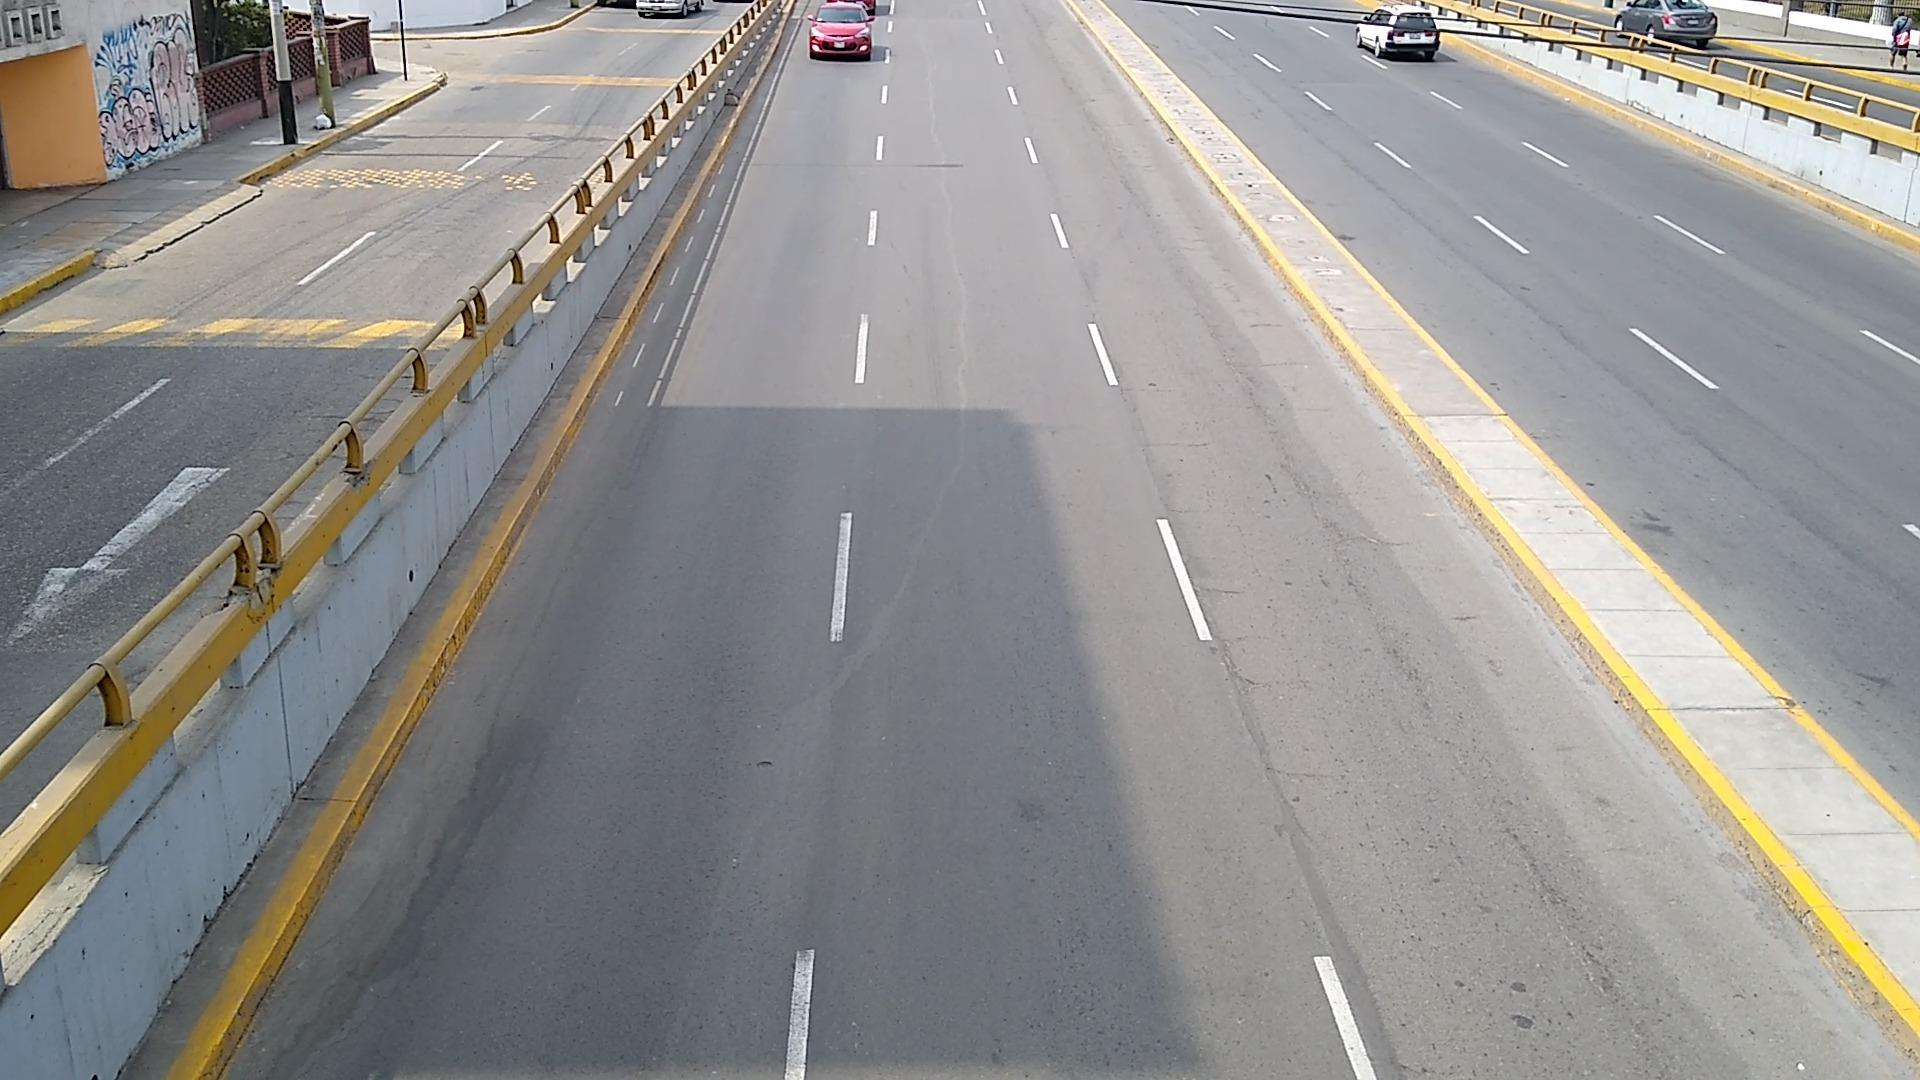car: (1612, 0, 1718, 49), (1358, 8, 1440, 60), (810, 0, 870, 56)
